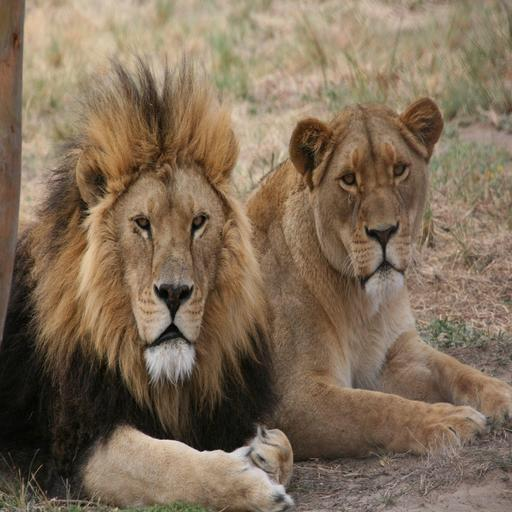Lion: (8, 91, 512, 468), (0, 44, 303, 512)
